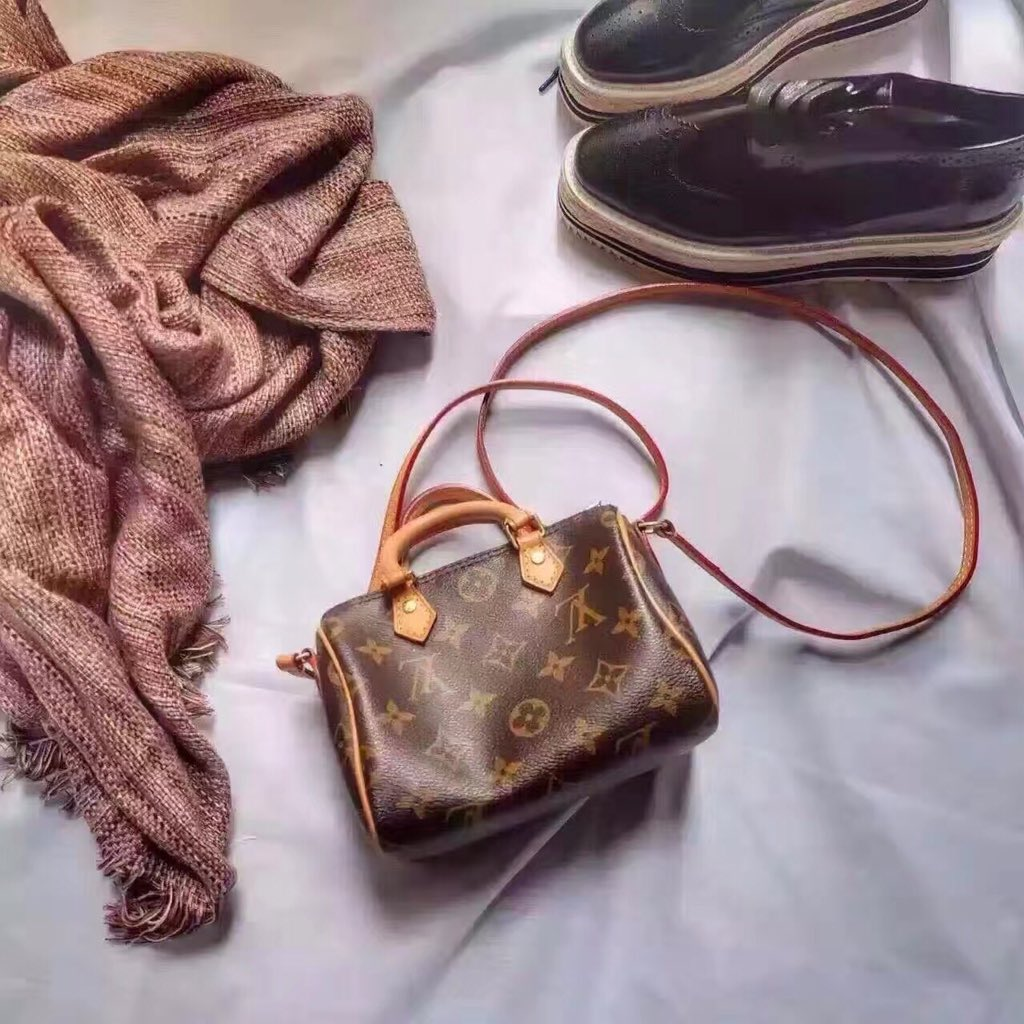LOUIS-VUITTON: (370, 650, 431, 706)
